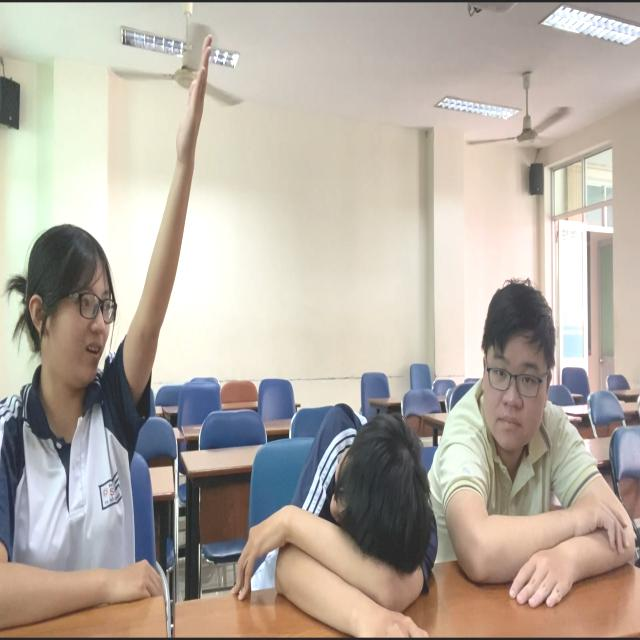raise_hand: (1, 1, 220, 639)
sleep: (233, 406, 453, 640)
